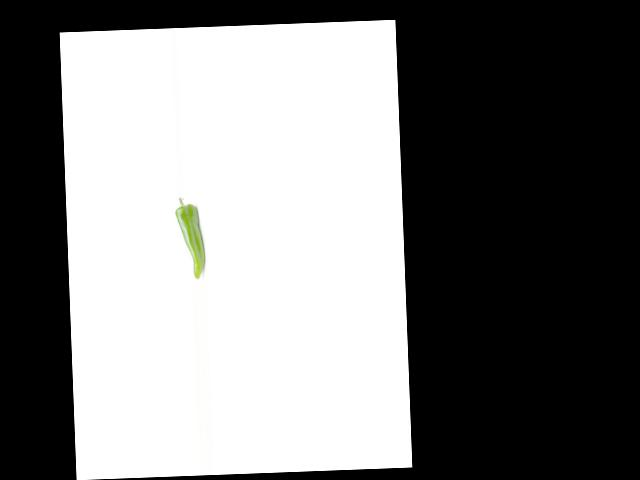bell_pepper: (173, 193, 207, 280)
